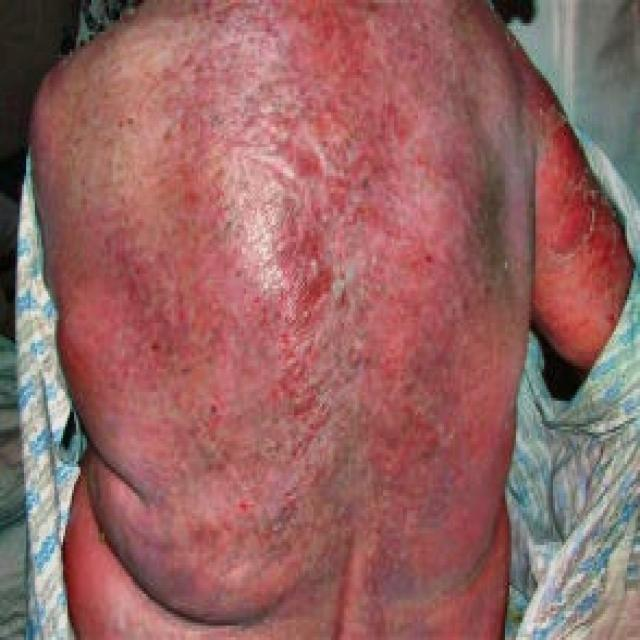Atopic-Dermatitis: (64, 67, 635, 506)
